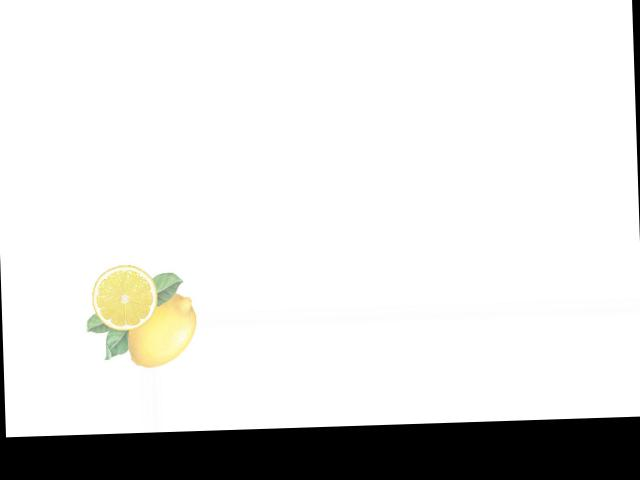lemon: (123, 290, 196, 368)
